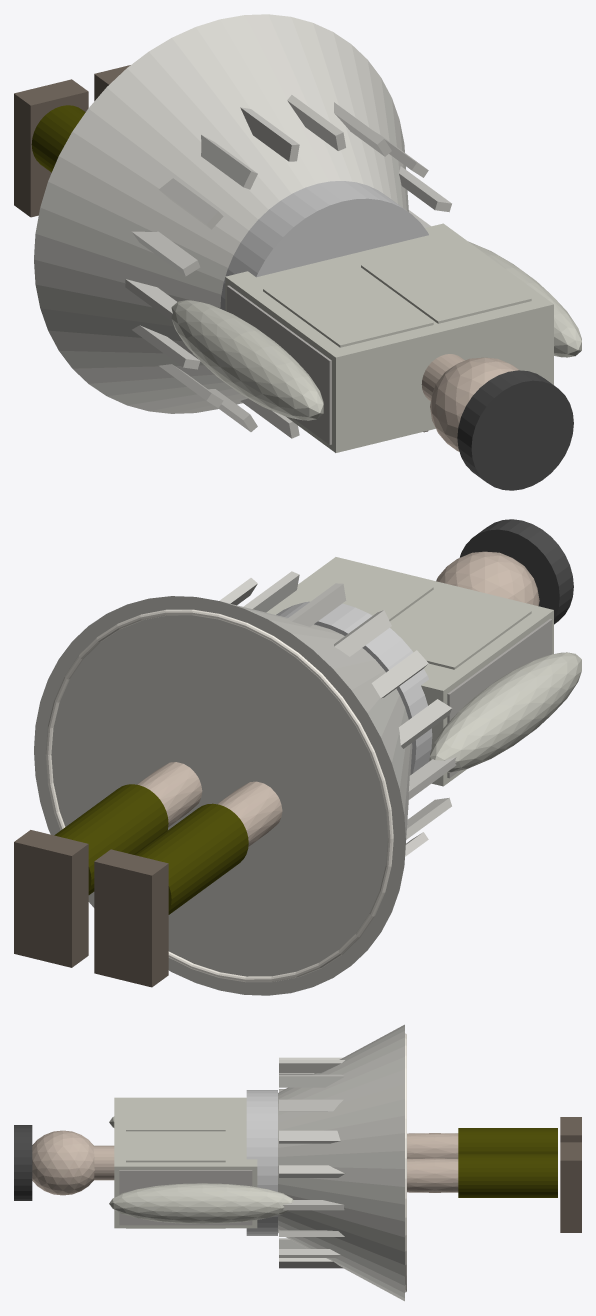
Rendered from MASTER_030_STAGE3_DETAIL.glb.
3 views of the same model, one above another, from view 1: azimuth 30°, elevation 25°; view 2: azimuth 150°, elevation 25°; view 3: azimuth 270°, elevation 25° (orthographic). The views are drawn at different scales.
Parts seen in each view (by area): view 1: slot_lower_main__fustanellë, slot_upper_inner__këmishë, slot_waist__brez, slot_headwear__mbulesë_koke, slot_upper_inner_sleeve_L, slot_upper_outer__jelek_R, slot_upper_outer__jelek_L, slot_footwear__opinga_L, mannequin_torso, mannequin_head, slot_legwear__çorape_L, slot_upper_inner_sleeve_R (+13 smaller); view 2: slot_lower_main__fustanellë, slot_footwear__opinga_L, slot_footwear__opinga_R, slot_upper_inner_sleeve_L, slot_upper_outer__jelek_L, slot_legwear__çorape_L, detail_fustanella_hem, slot_upper_inner__këmishë, slot_legwear__çorape_R, slot_headwear__mbulesë_koke, slot_waist__brez, slot_upper_outer__jelek_R (+11 smaller); view 3: slot_lower_main__fustanellë, slot_upper_inner_sleeve_R, slot_upper_inner__këmishë, slot_legwear__çorape_R, mannequin_head, slot_waist__brez, slot_upper_outer__jelek_R, slot_upper_outer__jelek_L, mannequin_torso, slot_legwear__çorape_L, slot_footwear__opinga_R, mannequin_leg_R (+14 smaller).
Boxes of the visible parts, x1=… form: slot_lower_main__fustanellë: x1=34, y1=14, x2=408, y2=413; slot_upper_inner__këmishë: x1=225, y1=223, x2=553, y2=452; slot_waist__brez: x1=220, y1=181, x2=428, y2=310; slot_headwear__mbulesë_koke: x1=457, y1=370, x2=573, y2=490; slot_upper_inner_sleeve_L: x1=171, y1=300, x2=323, y2=420; slot_upper_outer__jelek_R: x1=361, y1=242, x2=531, y2=323; slot_upper_outer__jelek_L: x1=263, y1=266, x2=433, y2=347; slot_footwear__opinga_L: x1=14, y1=79, x2=88, y2=217; mannequin_torso: x1=227, y1=285, x2=331, y2=444; mannequin_head: x1=430, y1=357, x2=519, y2=451; slot_legwear__çorape_L: x1=31, y1=105, x2=85, y2=172; slot_upper_inner_sleeve_R: x1=468, y1=241, x2=581, y2=357; slot_lower_main__fustanellë: x1=34, y1=596, x2=412, y2=995; slot_footwear__opinga_L: x1=94, y1=849, x2=168, y2=987; slot_footwear__opinga_R: x1=14, y1=830, x2=88, y2=967; slot_upper_inner_sleeve_L: x1=430, y1=652, x2=581, y2=772; slot_upper_outer__jelek_L: x1=390, y1=588, x2=531, y2=669; slot_legwear__çorape_L: x1=135, y1=803, x2=248, y2=914; detail_fustanella_hem: x1=45, y1=609, x2=393, y2=982; slot_upper_inner__këmishë: x1=266, y1=557, x2=553, y2=786; slot_legwear__çorape_R: x1=54, y1=784, x2=168, y2=894; slot_headwear__mbulesë_koke: x1=459, y1=519, x2=573, y2=624; slot_waist__brez: x1=276, y1=601, x2=432, y2=774; slot_upper_outer__jelek_R: x1=272, y1=564, x2=433, y2=621; slot_lower_main__fustanellë: x1=278, y1=1024, x2=404, y2=1301; slot_upper_inner_sleeve_R: x1=109, y1=1183, x2=293, y2=1223; slot_upper_inner__këmishë: x1=114, y1=1097, x2=257, y2=1228; slot_legwear__çorape_R: x1=458, y1=1153, x2=557, y2=1197; mannequin_head: x1=32, y1=1130, x2=94, y2=1195; slot_waist__brez: x1=246, y1=1090, x2=277, y2=1235; slot_upper_outer__jelek_R: x1=126, y1=1131, x2=225, y2=1228; slot_upper_outer__jelek_L: x1=126, y1=1100, x2=225, y2=1131; mannequin_torso: x1=119, y1=1170, x2=252, y2=1225; slot_legwear__çorape_L: x1=458, y1=1128, x2=557, y2=1153; slot_footwear__opinga_R: x1=560, y1=1142, x2=581, y2=1232; mannequin_leg_R: x1=407, y1=1158, x2=458, y2=1192.
Size of the model in its own units: 0.8356 by 0.8356 by 1.71.
